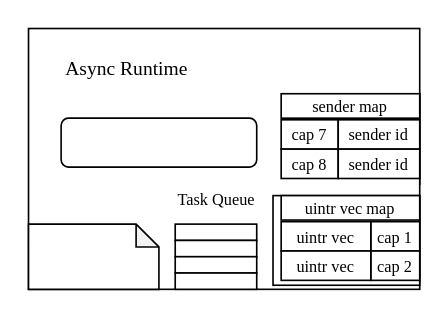
This 448x318 diagram has some shape labels left out. The centre of each missing label's shape, as x and y in pixels:
"Priority Scheduler" belongs at [158,142].
"syscall lib" belongs at [93,255].
